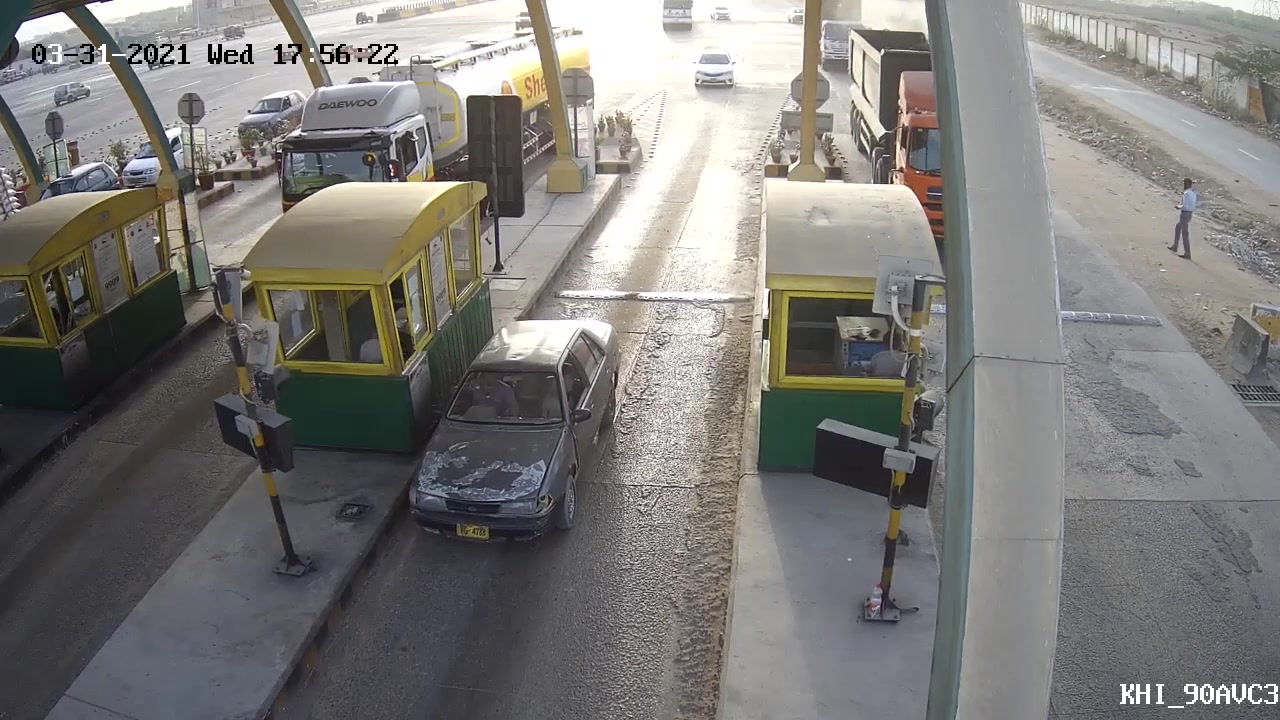F1: (401, 312, 626, 549)
